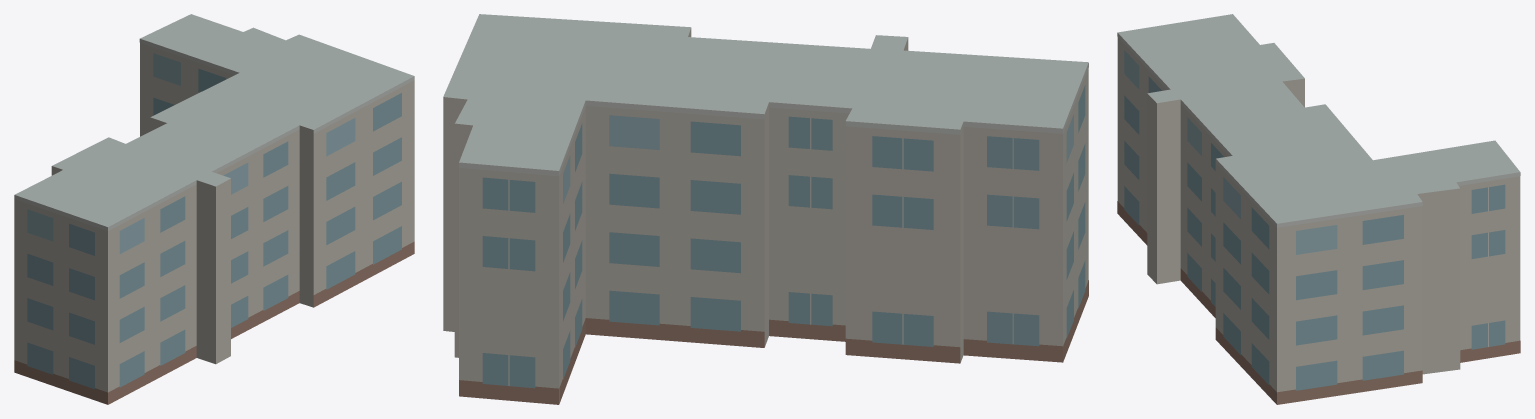
The model's file is survey-upis-32820098.glb.
3 views of the same model, side by side, from view 1: azimuth 30°, elevation 25°; view 2: azimuth 150°, elevation 25°; view 3: azimuth 270°, elevation 25° (orthographic). The views are drawn at different scales.
Parts seen in each view (by area): view 1: survey-upis-32820098.tmp; view 2: survey-upis-32820098.tmp; view 3: survey-upis-32820098.tmp.
Boxes of the visible parts, x1,y1,x2,y2 form: survey-upis-32820098.tmp: (14,14,414,404); survey-upis-32820098.tmp: (443,14,1088,404); survey-upis-32820098.tmp: (1117,14,1520,404).
Bounding box in the file's own units: 27.09 × 10.9 × 21.99.
